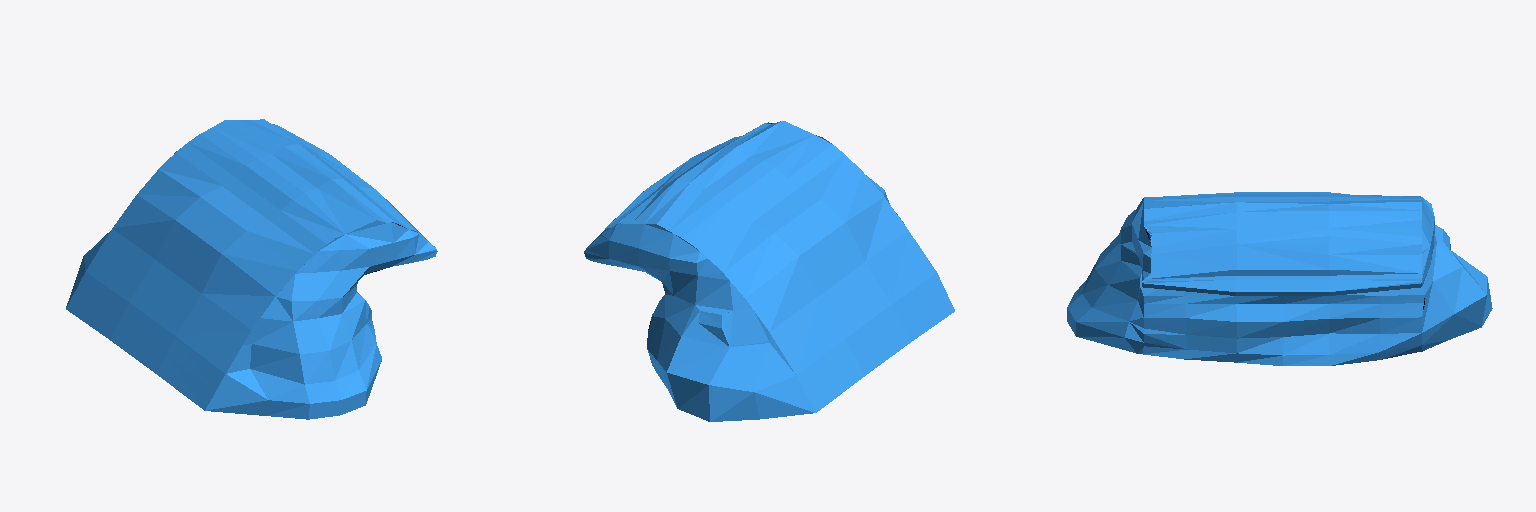
The picture shows the model from 3 angles: view 1: azimuth 30°, elevation 25°; view 2: azimuth 150°, elevation 25°; view 3: azimuth 270°, elevation 25°; orthographic projection.
Bounding box in the file's own units: 8506 × 5318 × 12839.
1 materials, 1 textured.